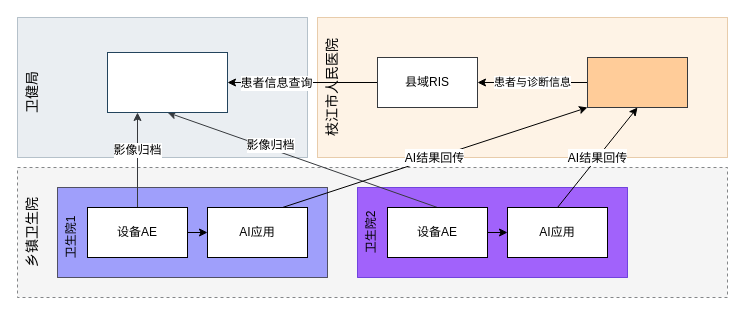
Image size: 745x315. Some labels were removed from this diagram. The shapes that lost their labels are listed below. From the top down, each one's box as (x1, y1, x2, y2) in pixels, then its label:
(106, 52, 228, 112): 卫健局PACS
(586, 56, 688, 108): 危急告警平台
